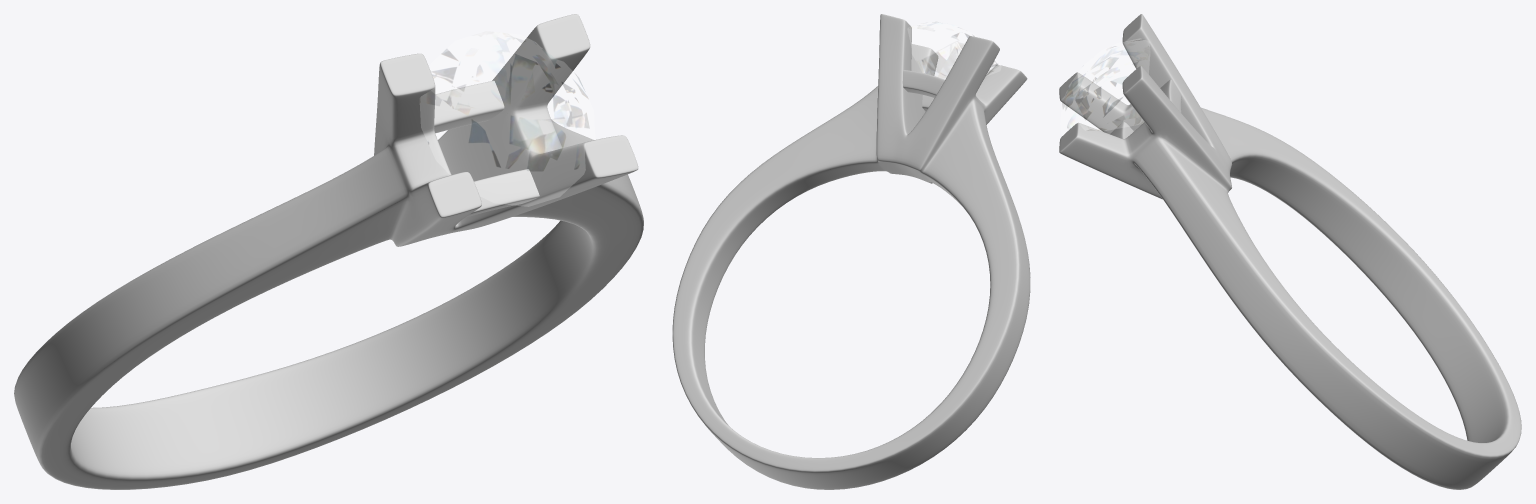
File: atasayCorrectGLB.glb
3 views of the same model, side by side, from view 1: azimuth 30°, elevation 25°; view 2: azimuth 150°, elevation 25°; view 3: azimuth 270°, elevation 25° (orthographic). The views are drawn at different scales.
Visible parts, largest first — view 1: Ring_Body, Ring_Diamond; view 2: Ring_Body, Ring_Diamond; view 3: Ring_Body, Ring_Diamond.
Boxes of the visible parts, x1,y1,x2,y2 form: Ring_Body: (14,14,643,489); Ring_Diamond: (420,31,594,206); Ring_Body: (672,14,1030,489); Ring_Diamond: (908,22,1000,78); Ring_Body: (1059,14,1521,489); Ring_Diamond: (1060,39,1149,134).
Bounding box in the file's own units: 7.5 × 7.99 × 7.99.
2 materials, 1 textured.
